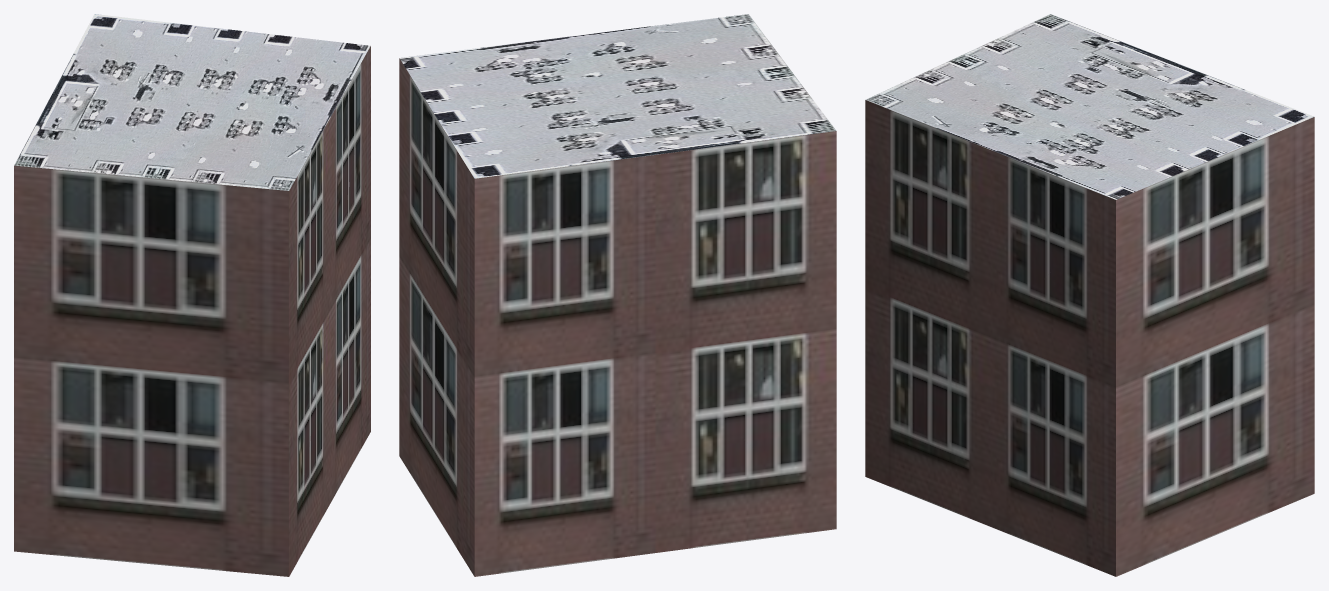
The model's file is ResTex__1681.fbx.
3 renders of one model, left to right at view 1: azimuth 30°, elevation 25°; view 2: azimuth 150°, elevation 25°; view 3: azimuth 270°, elevation 25°, orthographic. The views are drawn at different scales.
Parts seen in each view (by area): view 1: CityEngineMaterial_12_m, CityEngineMaterial_8_m; view 2: CityEngineMaterial_12_m, CityEngineMaterial_8_m; view 3: CityEngineMaterial_12_m, CityEngineMaterial_8_m.
Boxes of the visible parts, left/top/right/bottom form: CityEngineMaterial_12_m: left=14, top=46, right=370, bottom=576; CityEngineMaterial_8_m: left=14, top=14, right=370, bottom=190; CityEngineMaterial_12_m: left=399, top=58, right=836, bottom=576; CityEngineMaterial_8_m: left=399, top=14, right=836, bottom=178; CityEngineMaterial_12_m: left=865, top=100, right=1314, bottom=576; CityEngineMaterial_8_m: left=865, top=14, right=1314, bottom=199.
Size of the model in its own units: 6.35 by 6 by 6.48.
Materials: 2 (2 with a texture image).
